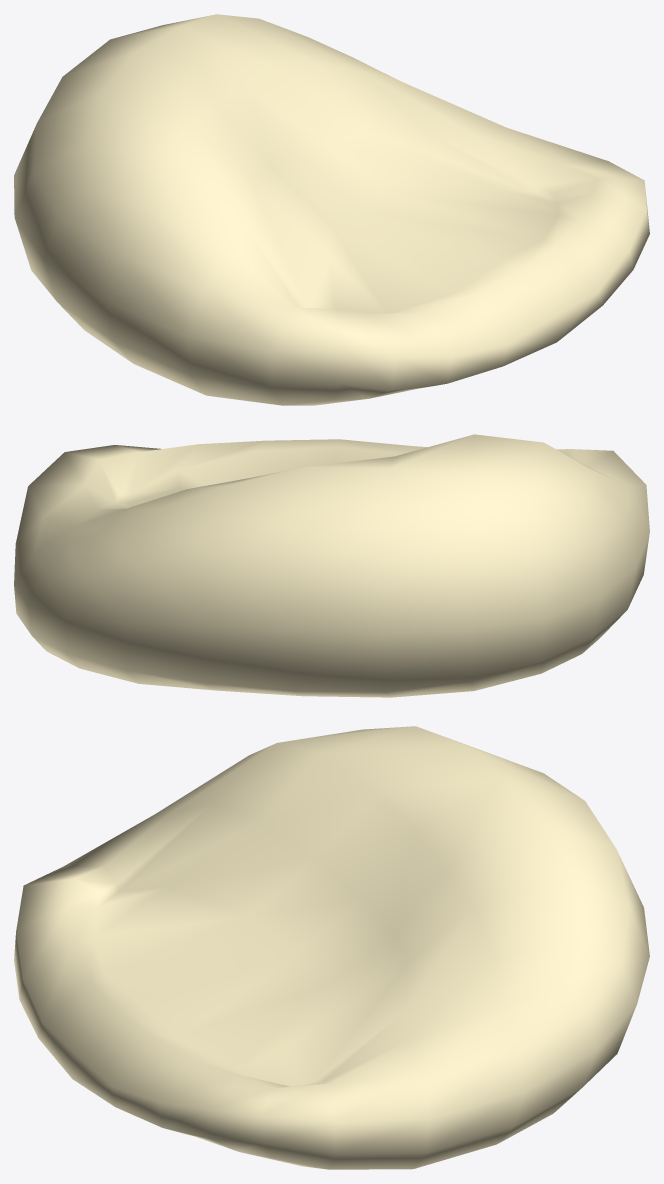
Rendered from dough.fbx.
3 views of the same model, one above another, from view 1: azimuth 30°, elevation 25°; view 2: azimuth 150°, elevation 25°; view 3: azimuth 270°, elevation 25° (orthographic). The views are drawn at different scales.
Visible parts, largest first — view 1: Dough.002; view 2: Dough.002; view 3: Dough.002.
Boxes of the visible parts, box(x1,y1,x2,y2) form: Dough.002: box(14, 14, 649, 405); Dough.002: box(14, 434, 649, 697); Dough.002: box(14, 726, 649, 1169).
Bounding box in the file's own units: 162 × 68.07 × 154.
